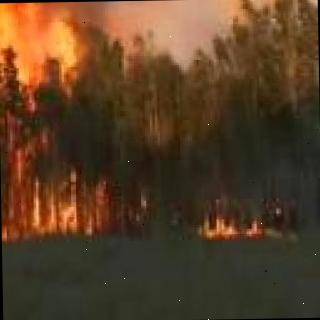fire: (0, 1, 116, 238), (182, 211, 275, 239)
